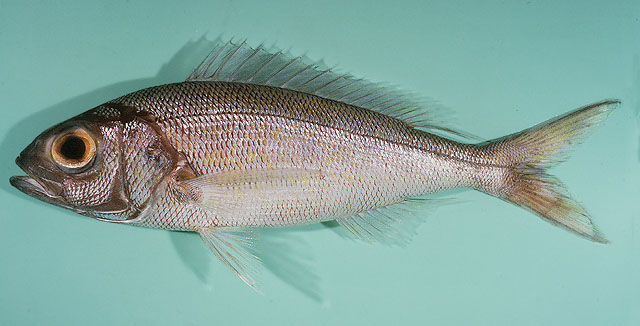fish: (8, 35, 622, 297)
